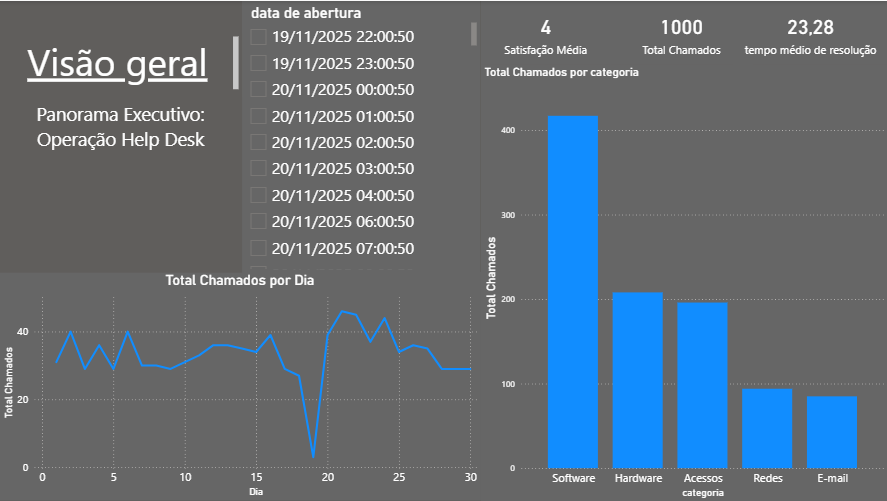

This screenshot's page, from the dashboard's own definition file:
{"tool":"powerbi","page":{"name":"Página 1","canvas":[1280,720],"ordinal":0},"visuals":[{"type":"card","fields":{"Values":["base_helpdesk_final.CSAT Médio"]},"box":[693.7,0,186.6,91.6],"z":0},{"type":"card","fields":{"Values":["base_helpdesk_final.Total Chamados"]},"box":[880.3,0,206,91.6],"z":1000},{"type":"card","fields":{"Values":["base_helpdesk_final.TMR Médio"]},"box":[1056.4,0,223.6,91.6],"z":2000},{"type":"slicer","fields":{"Values":["base_helpdesk_final.data_abertura"]},"box":[350.4,0,343.3,390.9],"z":3000},{"type":"lineChart","fields":{"Y":["base_helpdesk_final.Total Chamados"],"Category":["base_helpdesk_final.data_abertura.Variation.Hierarquia de datas.Dia"]},"box":[0,390.9,693.7,329.2],"z":4000},{"type":"clusteredColumnChart","fields":{"Category":["base_helpdesk_final.categoria"],"Y":["base_helpdesk_final.Total Chamados"]},"box":[693.7,91.6,586.3,628.6],"z":5000},{"type":"textbox","box":[0,45.8,350.4,91.6],"z":6000},{"type":"textbox","box":[0,138,350,253],"z":7000}]}

Visuals, with their boxes in screenshot pixels (x1, y1, x2, y2), scaled from the page's 1280x720 canvas onto the 887x501 screenshot:
card - base_helpdesk_final.CSAT Médio: x1=481, y1=0, x2=610, y2=64
card - base_helpdesk_final.Total Chamados: x1=610, y1=0, x2=753, y2=64
card - base_helpdesk_final.TMR Médio: x1=732, y1=0, x2=886, y2=64
slicer - base_helpdesk_final.data_abertura: x1=243, y1=0, x2=481, y2=272
lineChart - base_helpdesk_final.Total Chamados x base_helpdesk_final.data_abertura.Variation.Hierarquia de datas.Dia: x1=0, y1=272, x2=481, y2=500
clusteredColumnChart - base_helpdesk_final.categoria x base_helpdesk_final.Total Chamados: x1=481, y1=64, x2=886, y2=500
textbox: x1=0, y1=32, x2=243, y2=96
textbox: x1=0, y1=96, x2=243, y2=272
